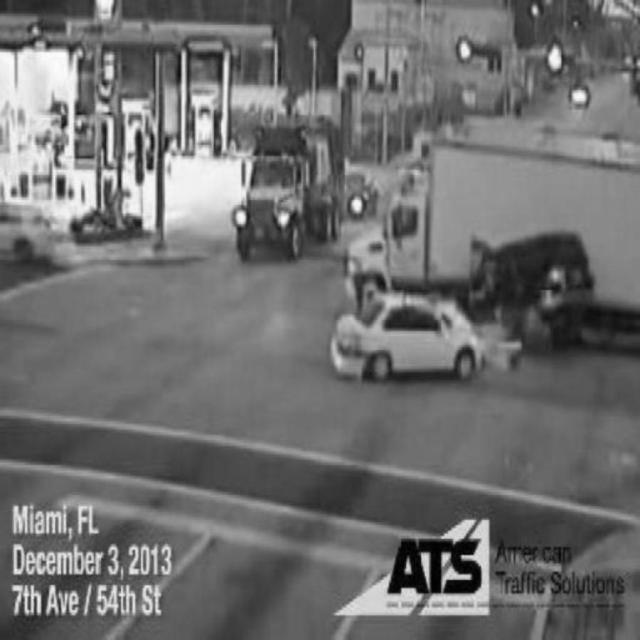accident: (332, 240, 595, 384)
vehicle: (356, 132, 640, 330), (242, 121, 338, 249)
